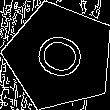O_E: (27, 27, 92, 86)
